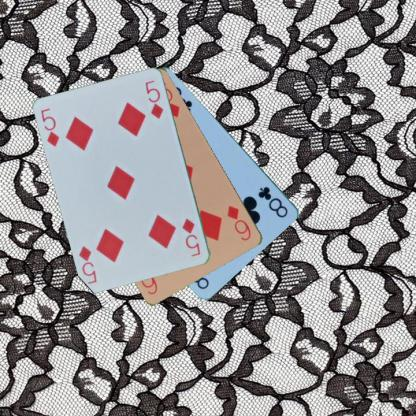5d: (180, 216, 202, 258), (39, 106, 61, 148)
6d: (224, 203, 253, 242)
8c: (256, 184, 289, 219)
